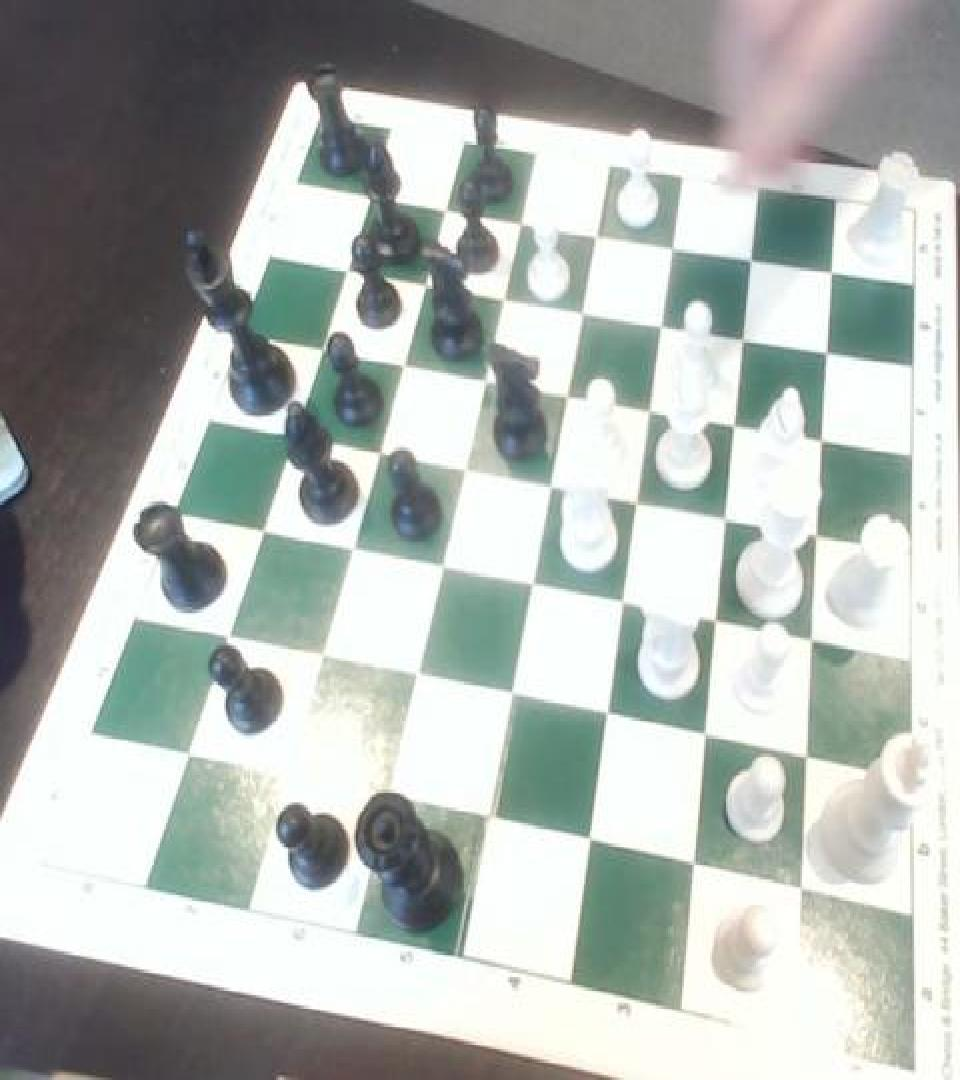xcorner: (210, 614, 242, 656), (399, 654, 431, 696), (610, 582, 642, 624), (715, 496, 747, 538), (807, 514, 839, 556), (552, 370, 584, 412), (330, 244, 362, 286), (408, 258, 440, 300), (487, 272, 519, 314), (815, 330, 847, 372), (659, 222, 691, 264), (739, 236, 771, 278), (172, 733, 204, 774), (270, 755, 302, 796), (371, 778, 403, 819), (473, 801, 505, 842), (577, 824, 609, 865), (790, 872, 822, 913), (304, 635, 336, 676), (496, 675, 528, 716), (594, 697, 626, 738), (245, 508, 277, 549), (334, 526, 366, 567), (424, 545, 456, 586), (516, 563, 548, 604), (705, 602, 737, 643), (802, 621, 834, 662), (276, 412, 308, 453), (361, 428, 393, 469), (447, 445, 479, 486), (304, 324, 336, 365), (468, 355, 500, 396), (637, 386, 669, 427), (723, 401, 755, 442), (811, 418, 843, 459), (567, 287, 599, 328), (649, 301, 681, 342), (731, 315, 763, 356), (353, 171, 385, 212), (428, 184, 460, 225), (504, 197, 536, 238), (683, 848, 715, 888), (694, 718, 726, 758), (797, 740, 829, 780), (535, 462, 567, 502), (624, 480, 656, 520), (385, 340, 417, 380), (581, 210, 613, 250), (819, 250, 851, 290)
